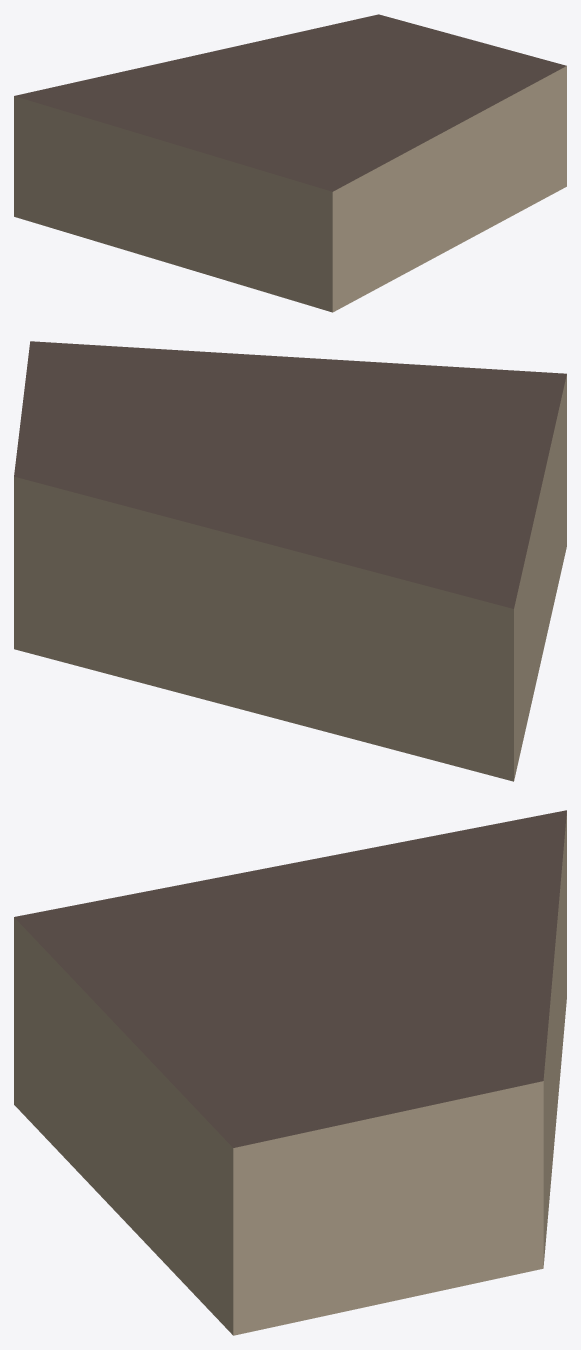
3 renders of one model, top to bottom at view 1: azimuth 30°, elevation 25°; view 2: azimuth 150°, elevation 25°; view 3: azimuth 270°, elevation 25°, orthographic. The views are drawn at different scales.
Parts seen in each view (by area): view 1: HP-w859488694; view 2: HP-w859488694; view 3: HP-w859488694.
Part boxes in pixels (box(x1,y1,x2,y2)): HP-w859488694: box(14, 14, 566, 312); HP-w859488694: box(14, 341, 566, 781); HP-w859488694: box(14, 810, 566, 1335).
Size of the model in its own units: 34.76 by 9 by 24.04.
